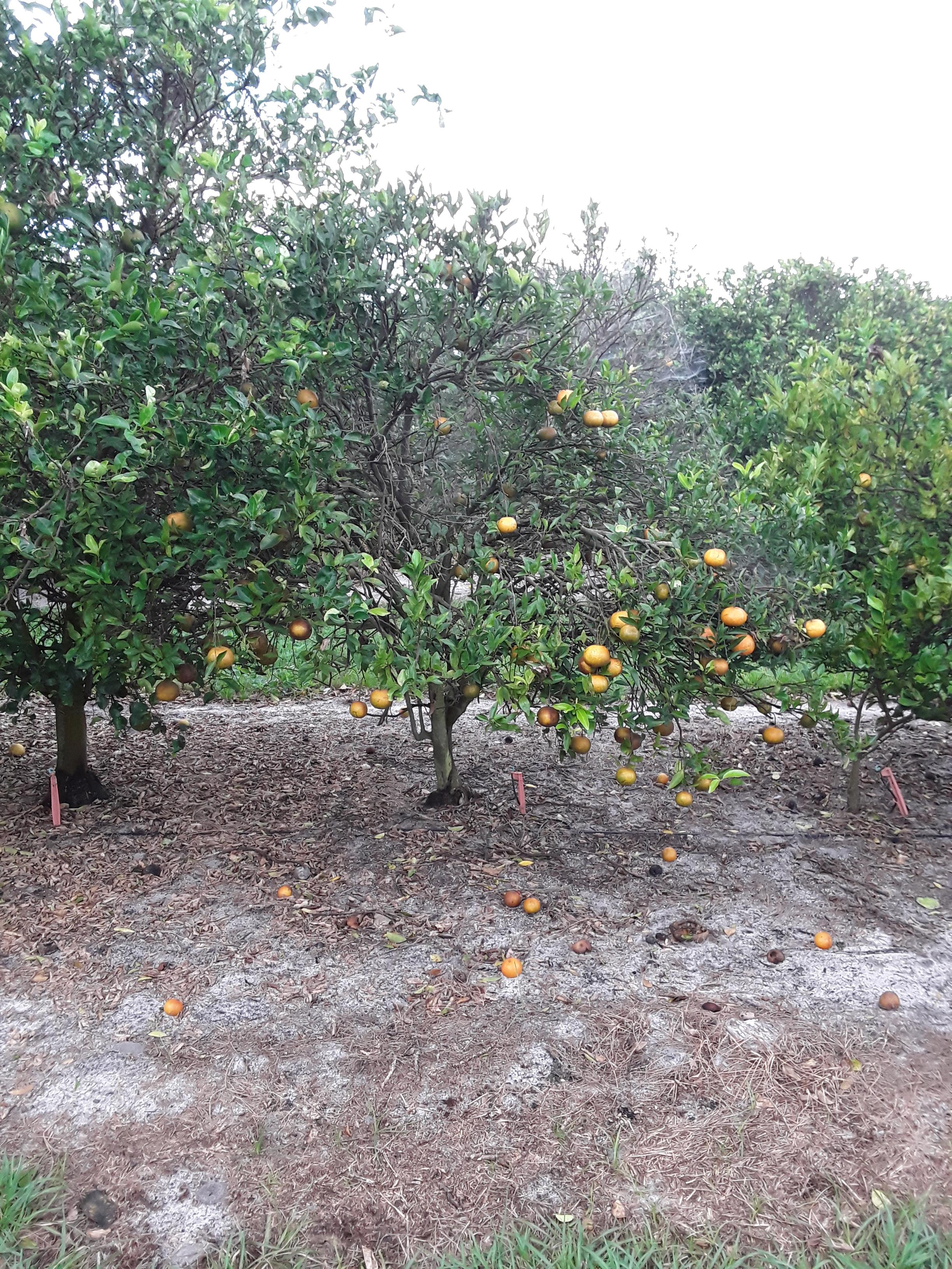fruit_on_ground: (0, 196, 28, 236), (162, 509, 196, 538), (38, 187, 68, 218), (116, 225, 147, 254), (206, 642, 236, 671), (852, 629, 884, 656), (900, 551, 931, 578), (508, 641, 539, 668), (200, 632, 229, 660), (232, 566, 263, 592), (728, 631, 757, 658), (432, 257, 462, 283), (582, 643, 610, 670), (719, 603, 749, 628), (243, 628, 270, 655), (292, 387, 320, 413), (286, 616, 314, 642), (506, 340, 535, 365), (702, 546, 730, 570), (607, 608, 636, 631), (368, 687, 394, 712), (154, 678, 180, 703), (429, 413, 455, 438), (454, 272, 479, 297), (535, 704, 560, 729), (555, 387, 581, 411), (692, 770, 719, 793), (174, 609, 199, 633), (174, 660, 199, 684), (494, 513, 519, 537), (803, 615, 828, 639), (577, 648, 600, 673), (256, 644, 281, 667), (586, 672, 611, 695), (621, 606, 647, 628), (695, 624, 719, 647), (581, 406, 605, 429), (614, 765, 638, 788), (853, 508, 878, 530), (640, 522, 665, 544), (761, 724, 786, 746), (545, 395, 568, 418), (853, 468, 876, 491), (82, 458, 105, 480), (766, 634, 789, 656), (709, 655, 731, 677), (599, 406, 621, 428), (569, 734, 592, 755), (617, 624, 641, 644), (450, 487, 472, 508), (497, 479, 519, 500), (686, 671, 708, 692), (604, 655, 625, 677), (348, 697, 369, 719), (536, 423, 558, 443), (235, 379, 256, 399), (481, 554, 501, 575), (652, 580, 672, 601), (460, 680, 482, 699), (717, 693, 739, 712), (652, 718, 675, 736), (450, 561, 469, 581), (614, 724, 633, 744), (753, 699, 774, 717), (798, 711, 818, 729), (625, 732, 643, 751), (592, 446, 611, 463), (396, 704, 411, 719)
fruit_on_tree: (77, 1187, 118, 1230), (876, 988, 902, 1013), (499, 955, 523, 981), (161, 995, 186, 1018), (812, 928, 835, 952), (501, 886, 524, 909), (569, 936, 593, 954), (349, 697, 369, 718), (674, 788, 695, 808), (522, 895, 542, 916), (274, 882, 294, 902), (765, 946, 786, 965), (142, 859, 163, 877), (659, 845, 678, 863), (8, 740, 27, 758), (783, 795, 800, 811), (654, 770, 671, 786), (646, 862, 664, 877), (175, 717, 192, 731), (362, 743, 379, 756)
